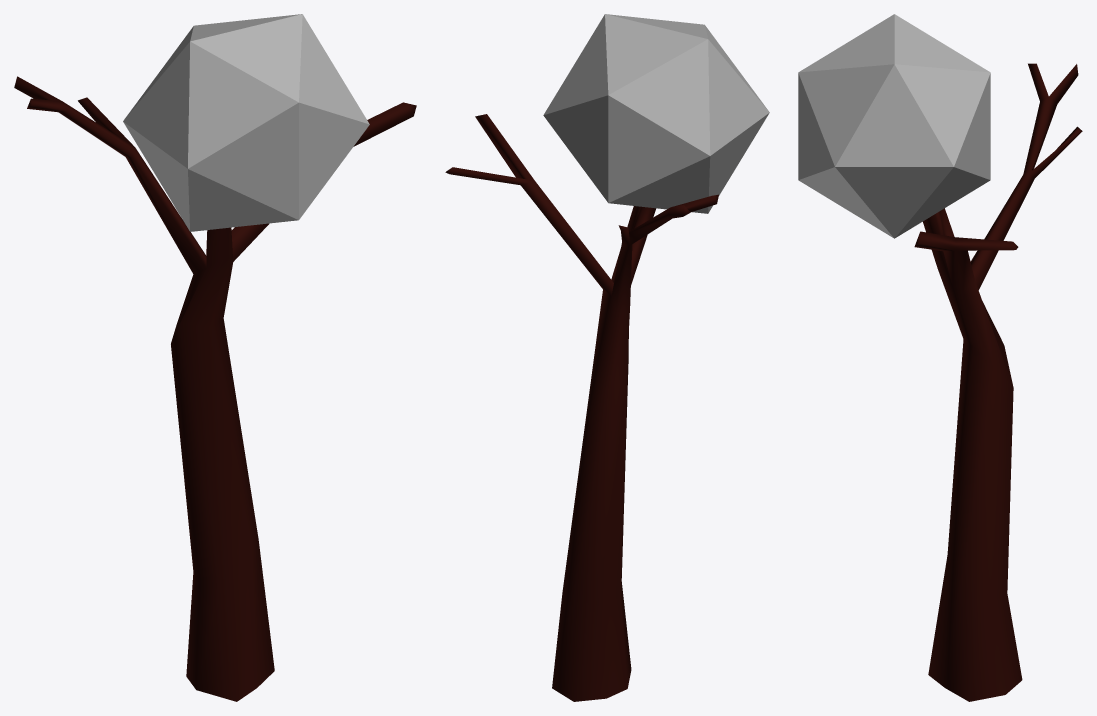
Rendered from low-poly-dead-tree.fbx.
The picture shows the model from 3 angles, left to right: view 1: azimuth 30°, elevation 25°; view 2: azimuth 150°, elevation 25°; view 3: azimuth 270°, elevation 25°; orthographic projection. The views are drawn at different scales.
Visible parts, largest first — view 1: Icosahedron, Circle_Circle; view 2: Icosahedron, Circle_Circle; view 3: Icosahedron, Circle_Circle.
Boxes of the visible parts, x1,y1,x2,y2 form: Icosahedron: (123, 14, 369, 231); Circle_Circle: (14, 76, 416, 701); Icosahedron: (543, 14, 769, 213); Circle_Circle: (445, 114, 718, 701); Icosahedron: (798, 14, 990, 238); Circle_Circle: (914, 63, 1082, 701).
Size of the model in its own units: 7.64 by 15.41 by 6.29.
